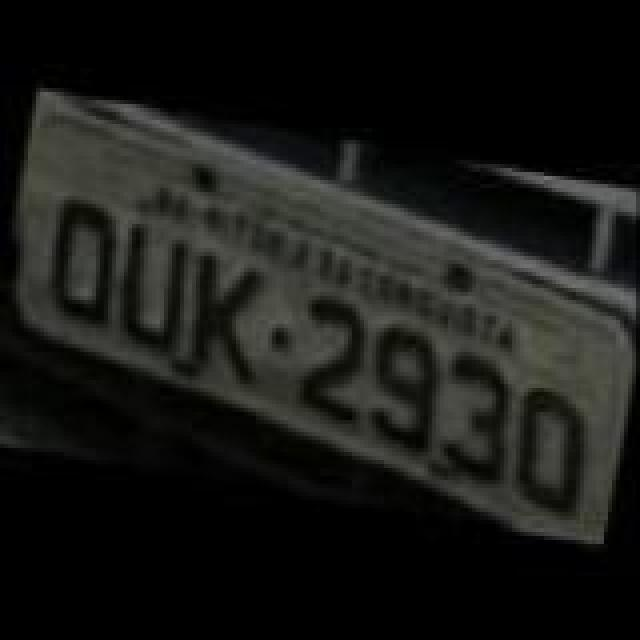2: (282, 288, 386, 428)
3: (426, 344, 526, 488)
9: (356, 316, 452, 452)
K: (174, 248, 286, 392)
O: (502, 384, 602, 520), (34, 192, 134, 328)
U: (102, 220, 198, 360)
